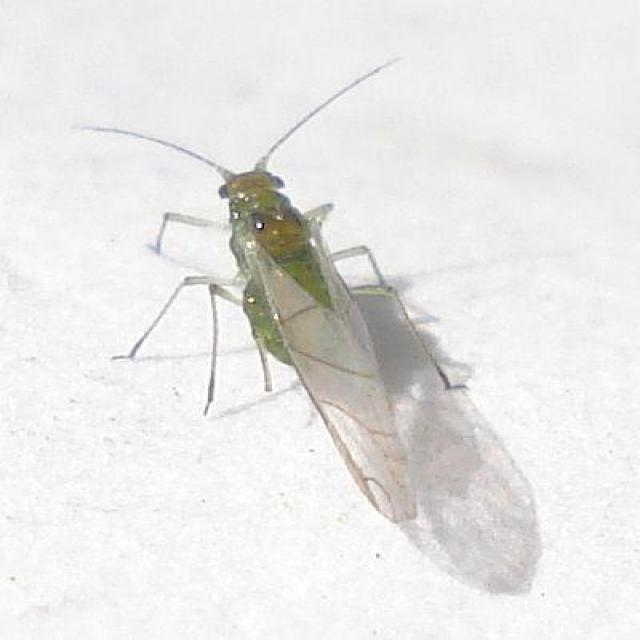Aphids: (46, 75, 532, 560)
